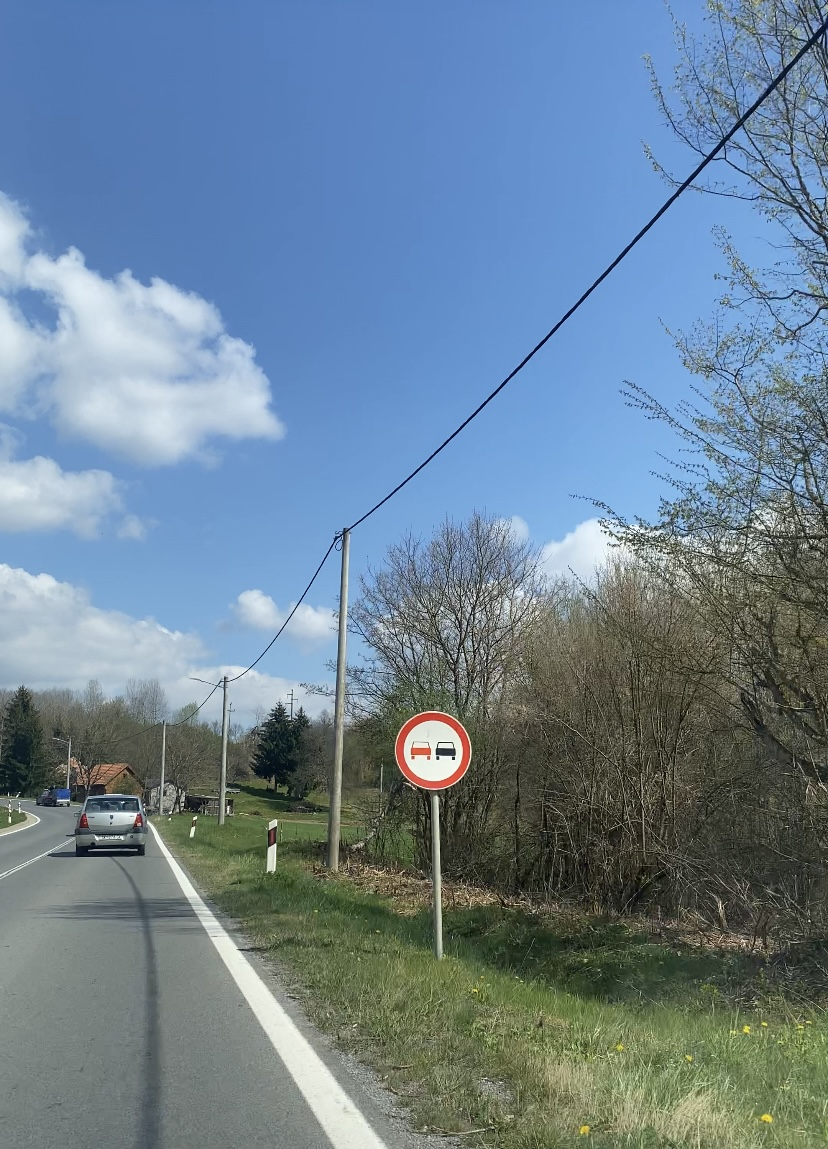Zabrana pretjecanja: (395, 711, 472, 790)
